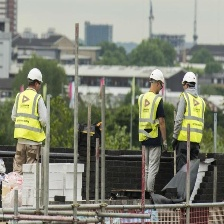helmet: (149, 68, 170, 85), (26, 68, 44, 85), (181, 72, 198, 85)
person: (134, 70, 170, 196), (13, 67, 49, 171), (173, 70, 205, 170)
vest: (13, 88, 48, 147), (172, 91, 205, 152), (136, 92, 164, 150)
